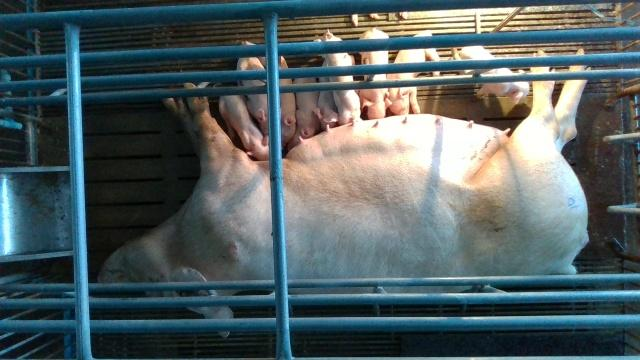piglet: (236, 39, 296, 150), (387, 30, 443, 114), (314, 31, 361, 125), (452, 46, 528, 99), (219, 88, 269, 161), (358, 27, 392, 119), (237, 55, 269, 136), (293, 58, 321, 138)
sow-sleep-lactate: (96, 46, 589, 293)
